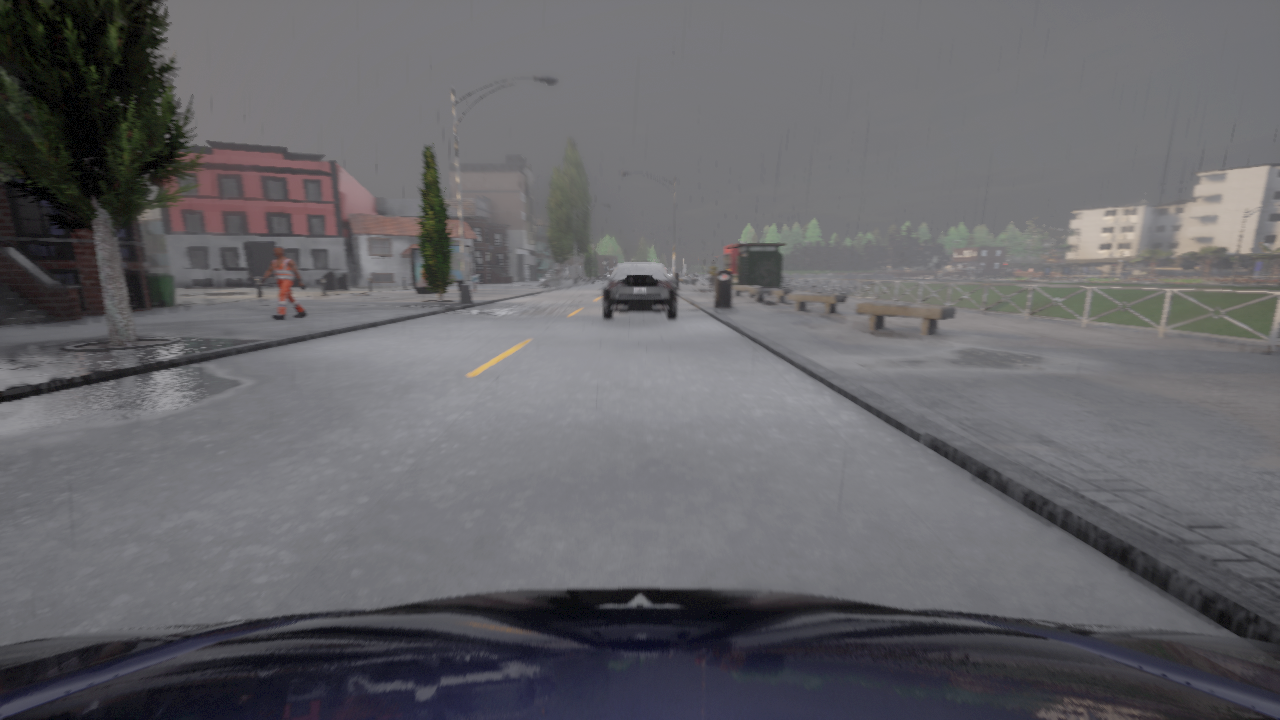cyclist: (0, 588, 1279, 719), (603, 263, 676, 319)
pedestrian: (261, 247, 305, 318), (707, 261, 717, 291), (471, 273, 477, 291)
